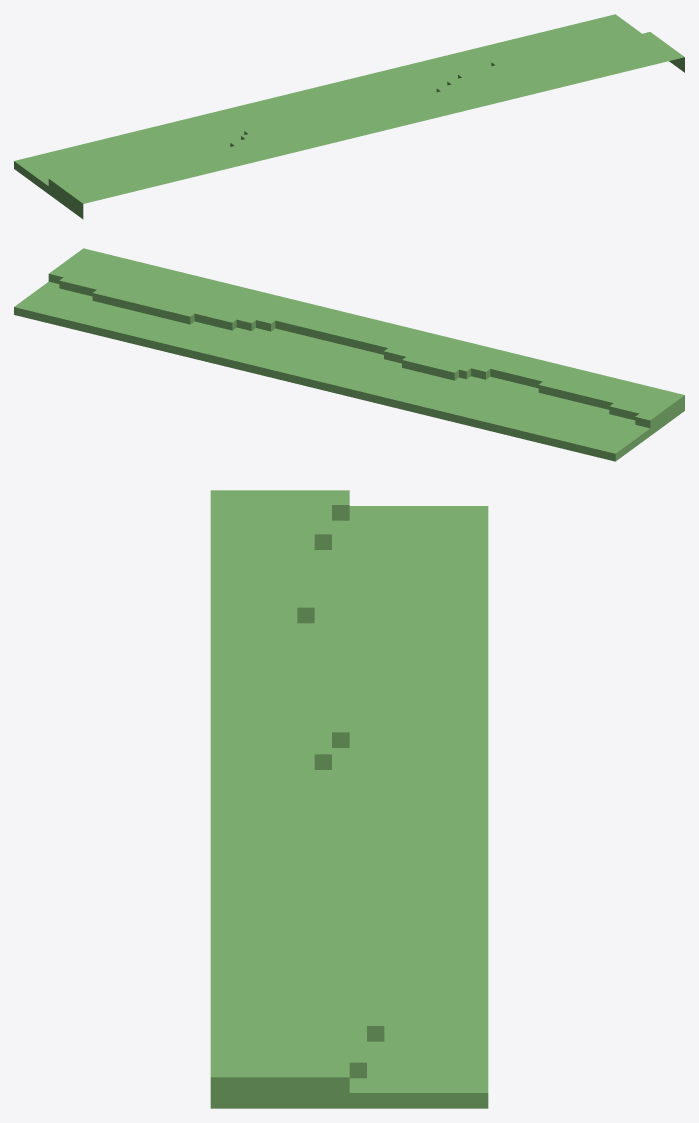
Rendered from Straight10-1step-2.fbx.
The picture shows the model from 3 angles, top to bottom: view 1: azimuth 30°, elevation 25°; view 2: azimuth 150°, elevation 25°; view 3: azimuth 270°, elevation 25°; orthographic projection. The views are drawn at different scales.
Visible parts, largest first — view 1: Straight-10-1step; view 2: Straight-10-1step; view 3: Straight-10-1step.
Part boxes in pixels (x1=…): Straight-10-1step: x1=14, y1=14, x2=684, y2=219; Straight-10-1step: x1=14, y1=248, x2=684, y2=461; Straight-10-1step: x1=210, y1=490, x2=488, y2=1108.
Bounding box in the file's own units: 80 × 2 × 16.
1 material, 1 textured.
